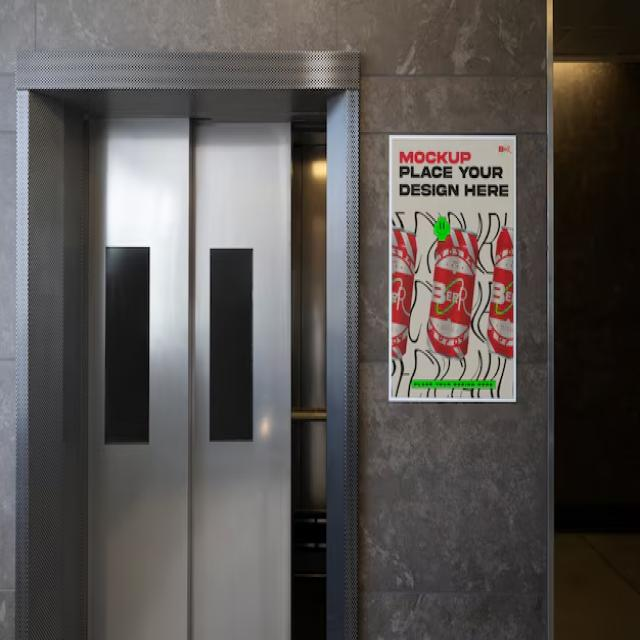elevator: (9, 29, 366, 640)
